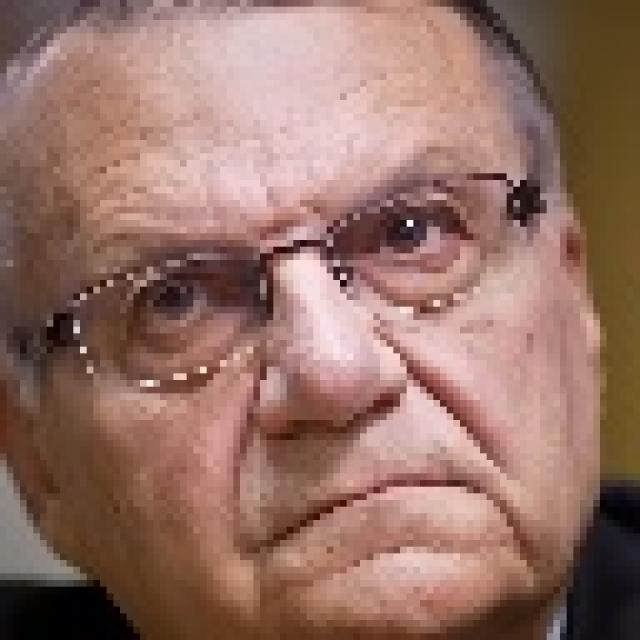angry: (0, 32, 582, 640)
